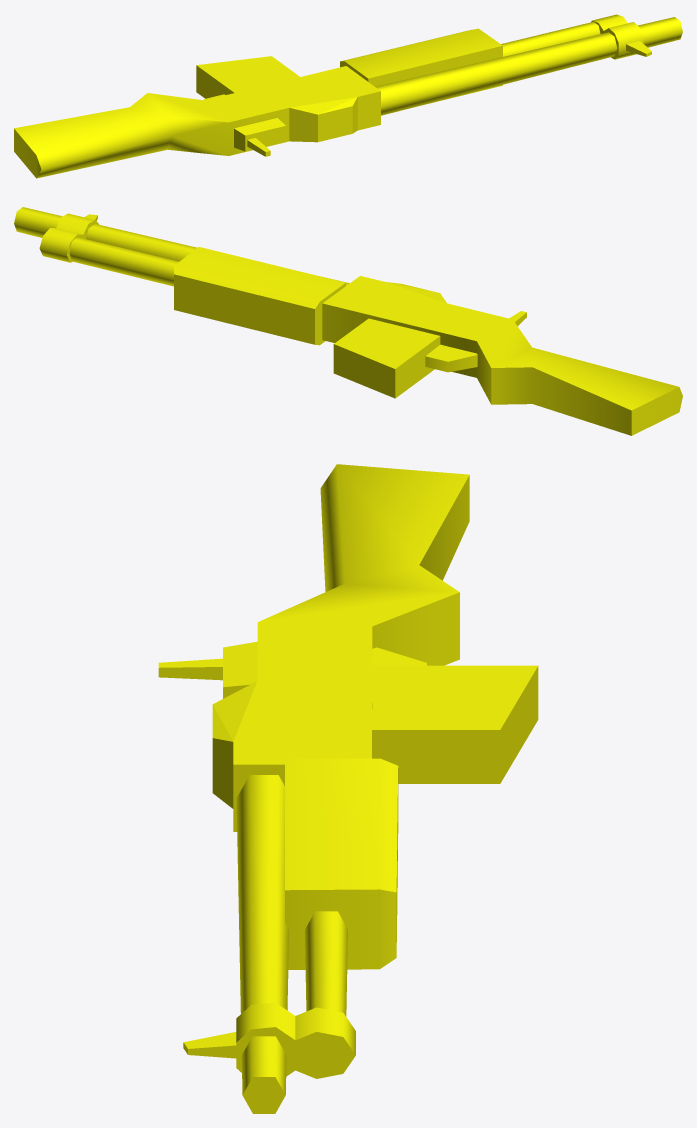
Rendered from weapon_bar.glb.
3 views of the same model, one above another, from view 1: azimuth 30°, elevation 25°; view 2: azimuth 150°, elevation 25°; view 3: azimuth 270°, elevation 25° (orthographic). The views are drawn at different scales.
Visible parts, largest first — view 1: weapon_bar; view 2: weapon_bar; view 3: weapon_bar.
Boxes of the visible parts, x1,y1,x2,y2 form: weapon_bar: (14, 14, 682, 178); weapon_bar: (14, 207, 682, 435); weapon_bar: (158, 464, 538, 1113).
Bounding box in the file's own units: 1.8 × 0.1101 × 0.4747.
1 material, 1 textured.
